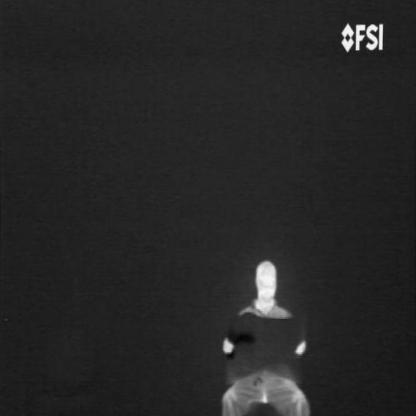weapon: (224, 325, 258, 363)
